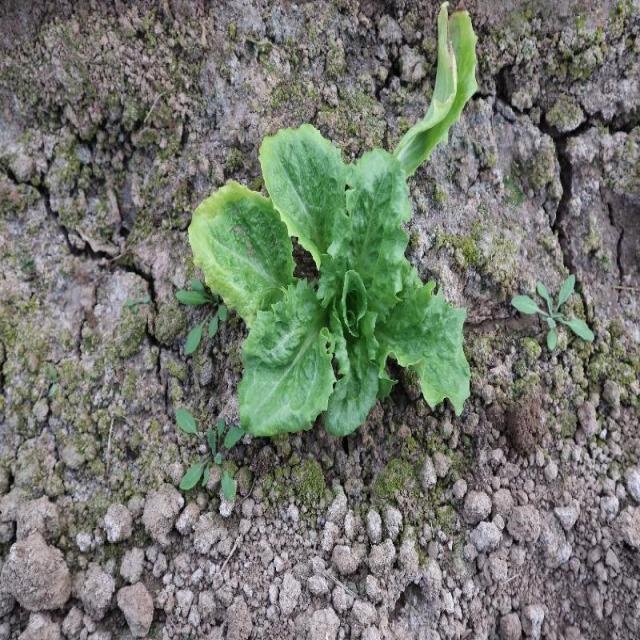crop: (188, 3, 481, 441)
